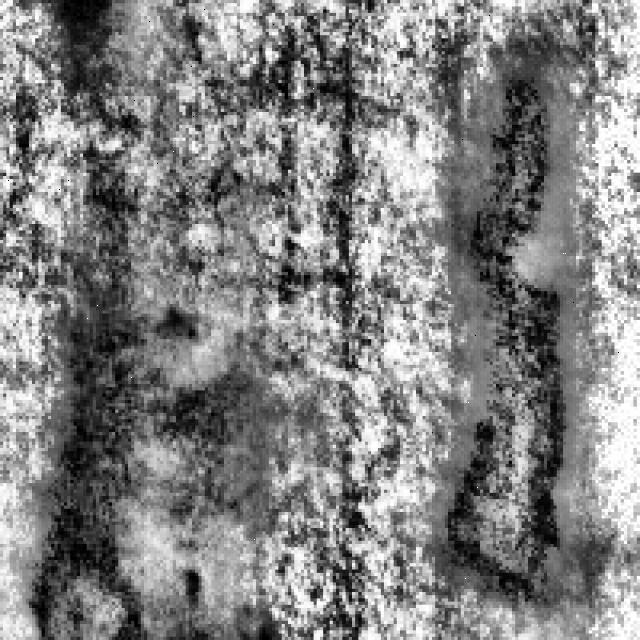Scratches: (29, 275, 272, 634), (438, 51, 576, 602), (45, 0, 128, 48)
